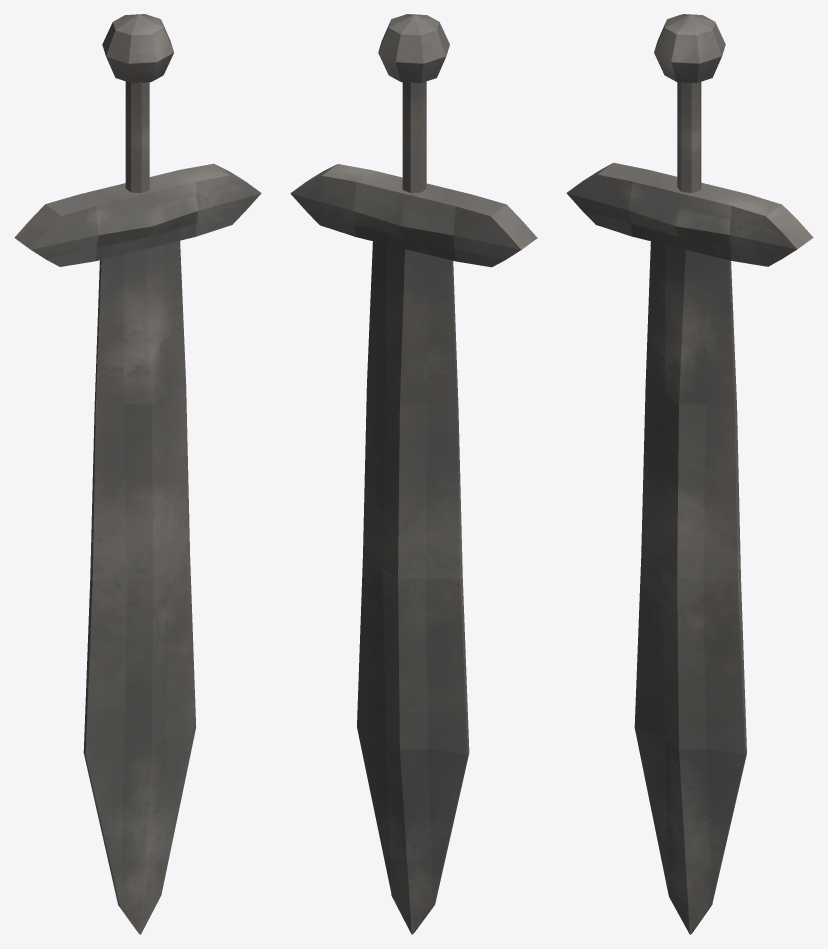
File: stone_sword.fbx
The picture shows the model from 3 angles, left to right: view 1: azimuth 30°, elevation 25°; view 2: azimuth 150°, elevation 25°; view 3: azimuth 330°, elevation 25°; orthographic projection.
Visible parts, largest first — view 1: Object006; view 2: Object006; view 3: Object006.
Part boxes in pixels (x1,y1,x2,y2): Object006: (14, 14, 261, 934); Object006: (290, 14, 537, 934); Object006: (566, 14, 813, 934).
Bounding box in the file's own units: 6 × 22.81 × 1.67.
1 material, 1 textured.
